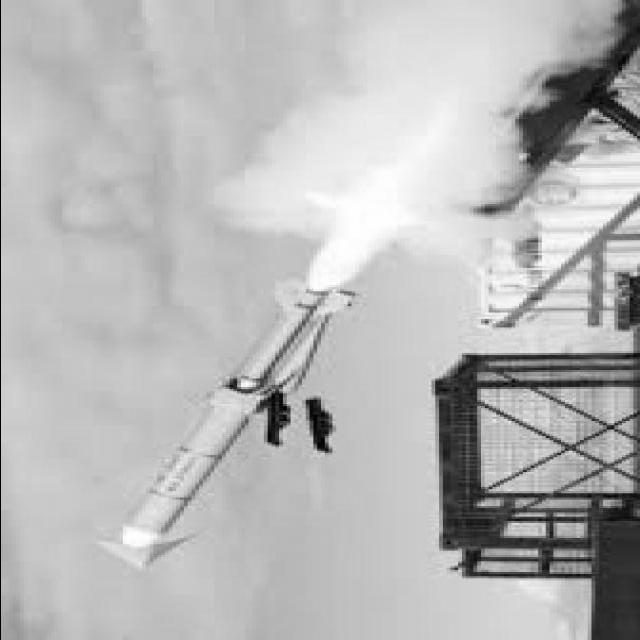Missile: (91, 273, 348, 547)
